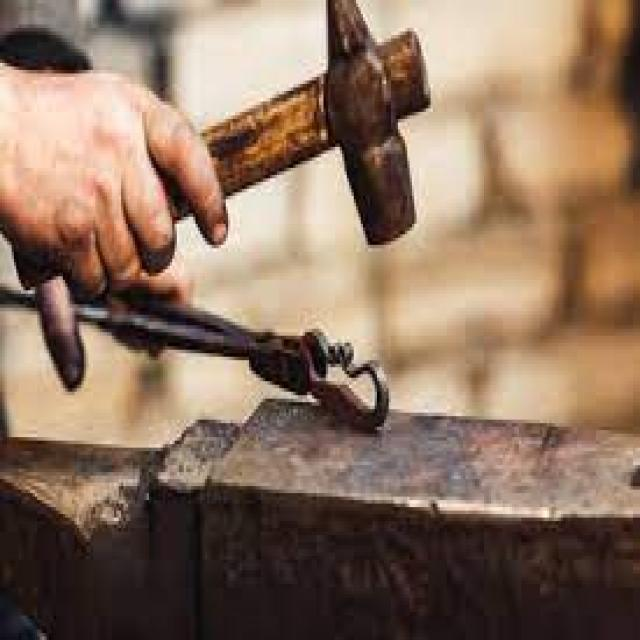hammer: (0, 0, 437, 297)
